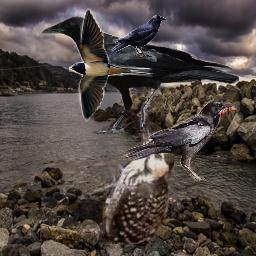Crow: (40, 14, 239, 134), (123, 98, 246, 181), (111, 15, 166, 59)
Swallow: (69, 8, 153, 122)
Woodpecker: (87, 112, 174, 244)
